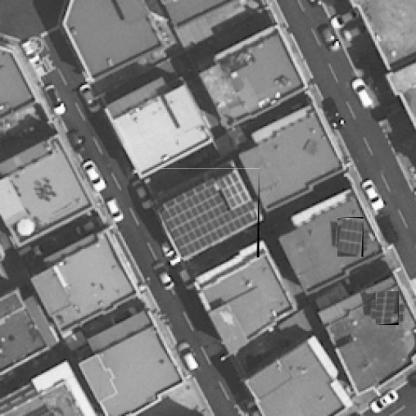solar-pv-panel: (162, 169, 258, 257), (337, 218, 363, 257), (376, 292, 398, 325)
